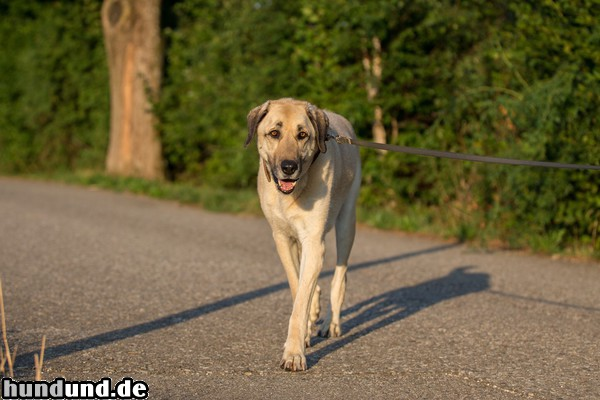kangal: (243, 96, 362, 370)
